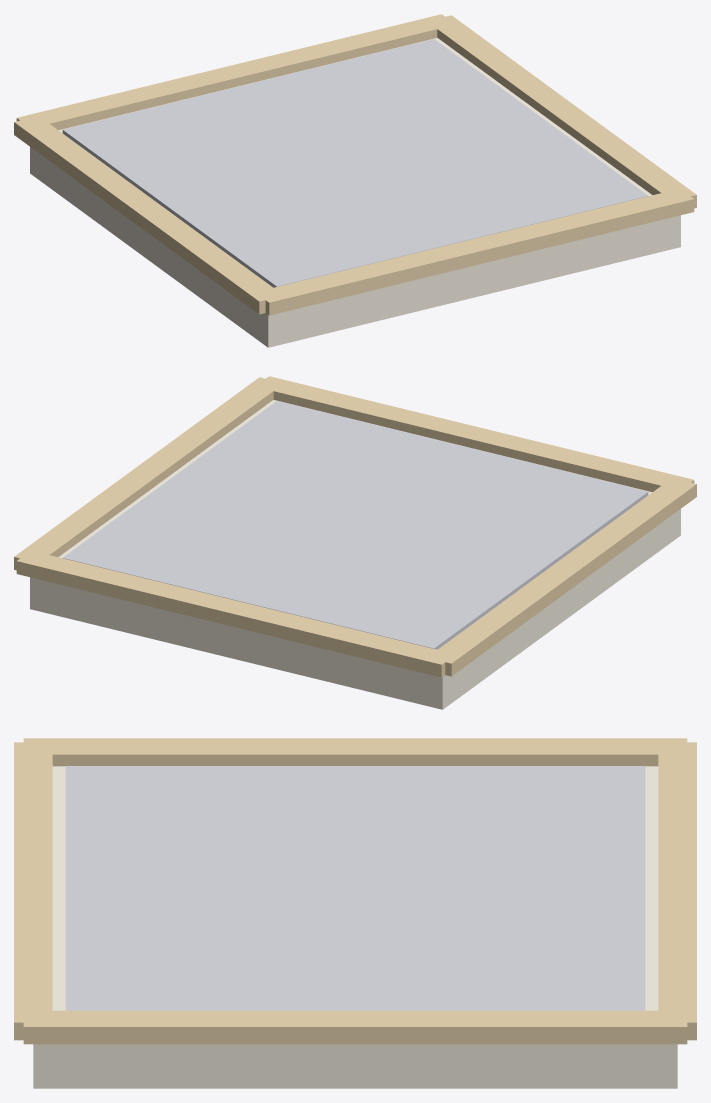
The model's file is city.road.glb.
3 views of the same model, one above another, from view 1: azimuth 30°, elevation 25°; view 2: azimuth 150°, elevation 25°; view 3: azimuth 270°, elevation 25° (orthographic). The views are drawn at different scales.
Visible parts, largest first — view 1: city.road; view 2: city.road; view 3: city.road.
Part boxes in pixels (x1,y1,x2,y2): city.road: (14,14,696,347); city.road: (14,376,696,709); city.road: (14,738,696,1088).
Size of the model in its own units: 2.12 by 0.24 by 2.12.
